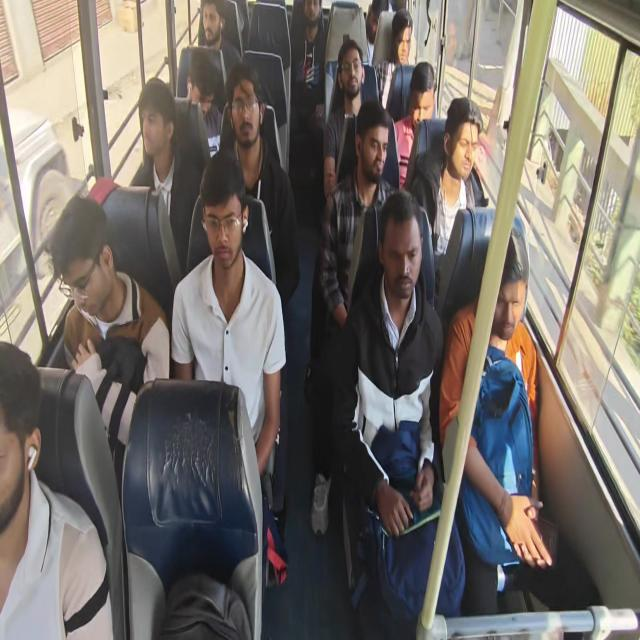person: (53, 216, 117, 316), (485, 234, 532, 336), (379, 206, 422, 310), (202, 177, 242, 263), (125, 99, 171, 167), (446, 105, 479, 184), (183, 59, 219, 129), (354, 108, 388, 179), (194, 2, 239, 52), (230, 77, 262, 143), (406, 71, 436, 134), (390, 21, 416, 65), (294, 0, 320, 39), (337, 50, 357, 86)
